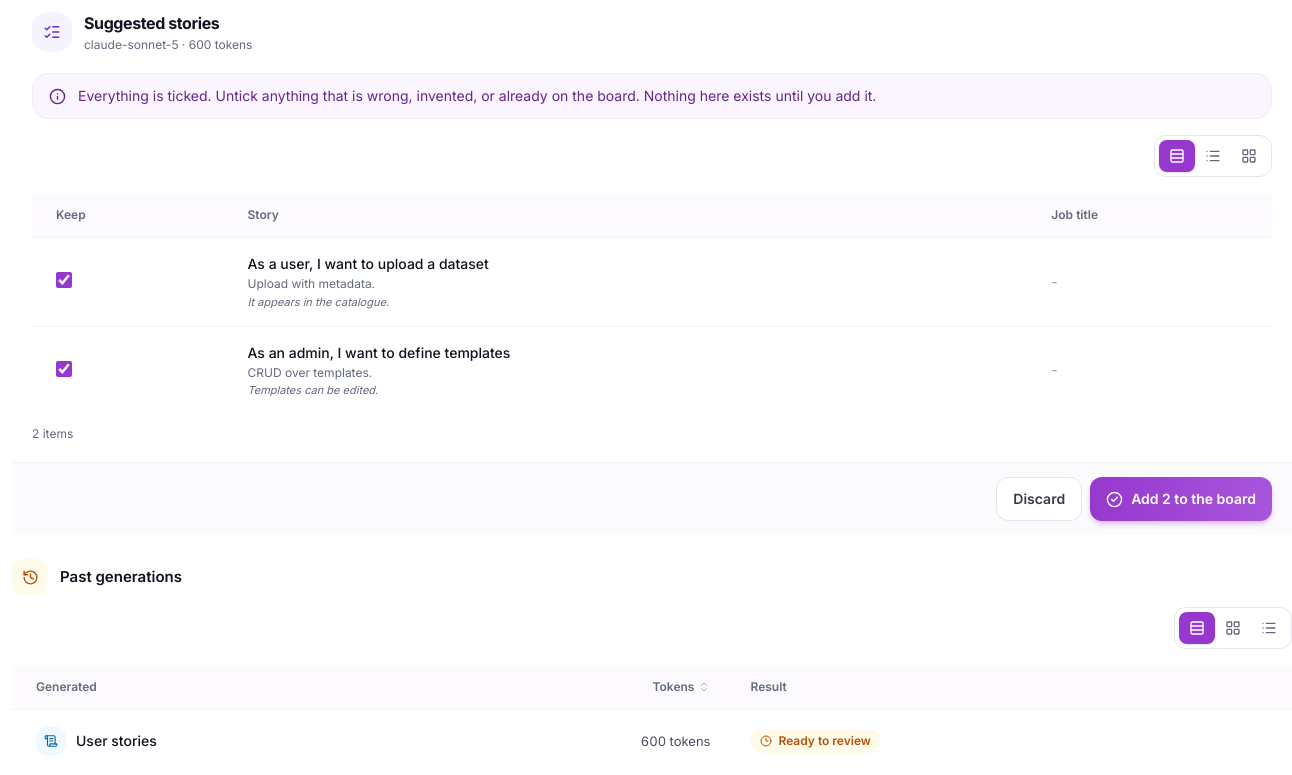
Test: AiWorkshop › unticks an item in a flat preview and commits only what is left
Expected: the text "As a user, I want to upload a dataset" is shown, [248, 255, 489, 272]
Click the checkbox named "Keep \"As a user, I want to upload a dataset\"": (64, 280) [56, 272, 72, 288]
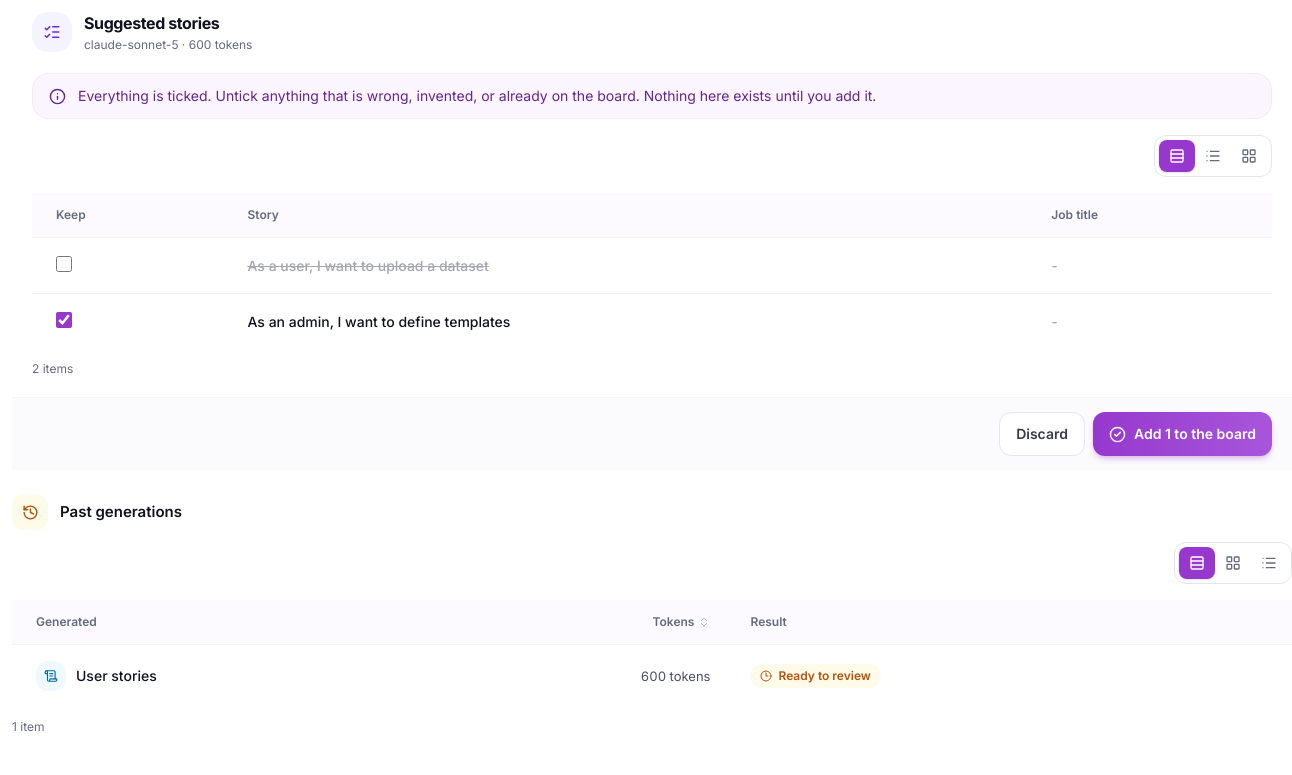
Click the button "Add 1 to the board": (1182, 434) [1093, 412, 1272, 456]
(page scrolled)
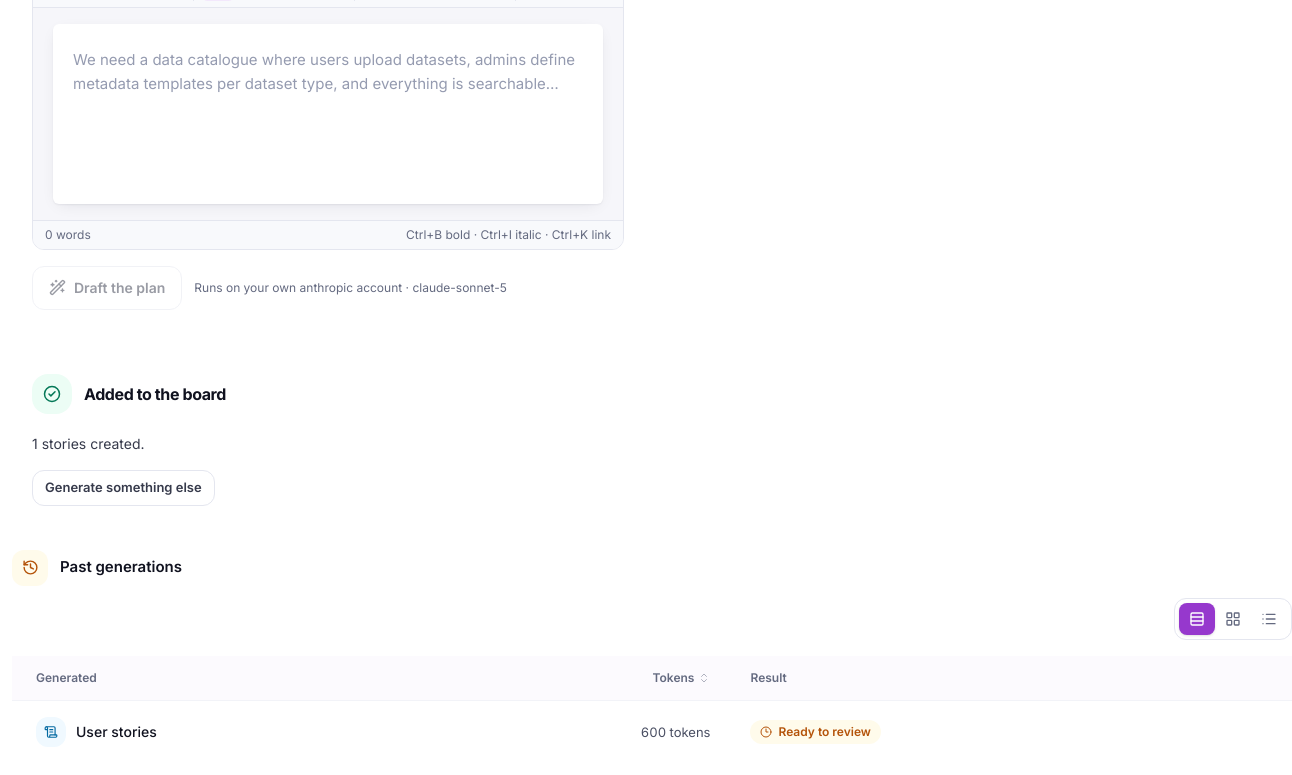
Result: the text "1 stories created." is shown at [32, 434, 145, 452]
